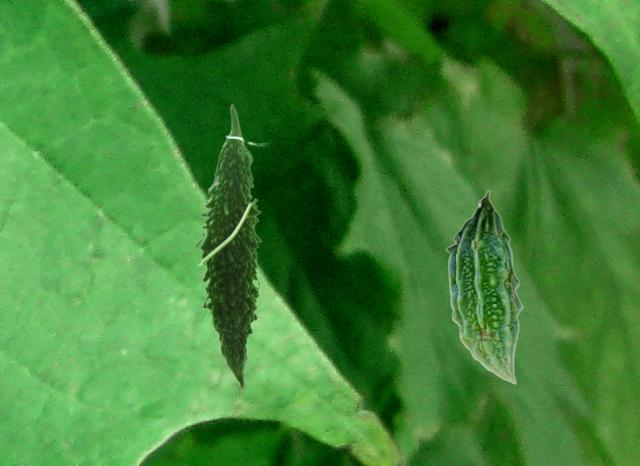ampalaya: (194, 103, 271, 391), (445, 189, 523, 385)
